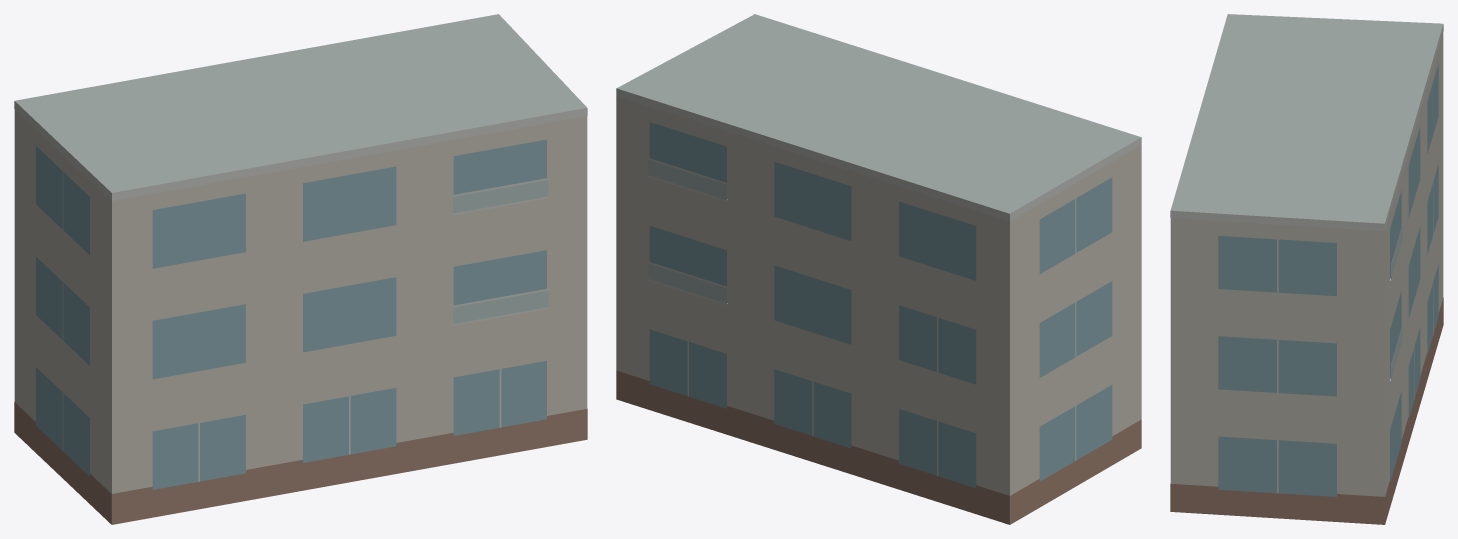
File: survey-upis-32639645.glb
The picture shows the model from 3 angles, left to right: view 1: azimuth 30°, elevation 25°; view 2: azimuth 150°, elevation 25°; view 3: azimuth 270°, elevation 25°; orthographic projection. The views are drawn at different scales.
Parts seen in each view (by area): view 1: survey-upis-32639645.tmp; view 2: survey-upis-32639645.tmp; view 3: survey-upis-32639645.tmp.
Boxes of the visible parts, bbox=[...] form: survey-upis-32639645.tmp: bbox=[14, 14, 587, 524]; survey-upis-32639645.tmp: bbox=[616, 14, 1141, 524]; survey-upis-32639645.tmp: bbox=[1170, 14, 1443, 524].
Size of the model in its own units: 14.8 by 9.9 by 8.15.
